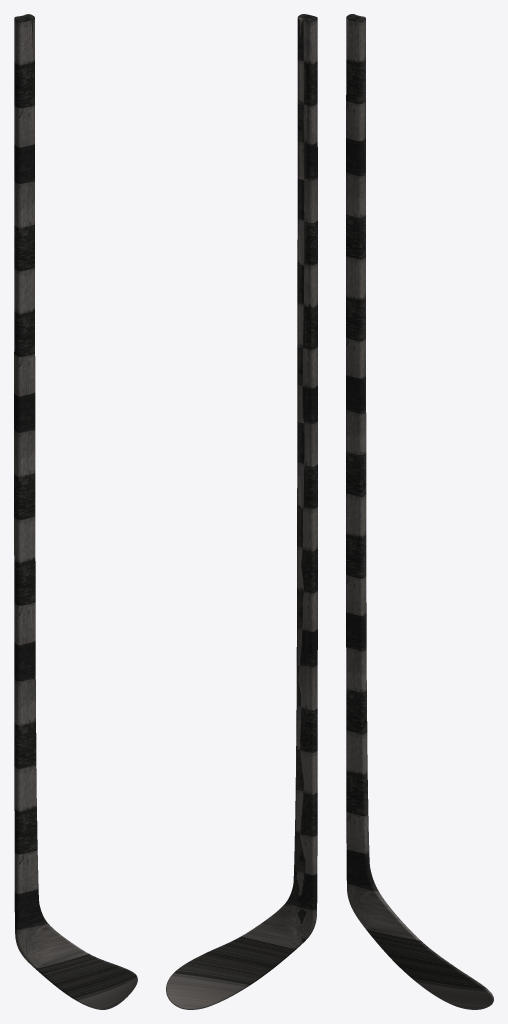
File: P28-1-4-ST-LIE6_0.glb
The picture shows the model from 3 angles, left to right: view 1: azimuth 30°, elevation 25°; view 2: azimuth 150°, elevation 25°; view 3: azimuth 330°, elevation 25°; orthographic projection. The views are drawn at different scales.
Visible parts, largest first — view 1: geometry_0; view 2: geometry_0; view 3: geometry_0.
Boxes of the visible parts, left/top/right/bottom form: geometry_0: left=14, top=14, right=137, bottom=1009; geometry_0: left=166, top=14, right=317, bottom=1009; geometry_0: left=346, top=14, right=493, bottom=1009.
Size of the model in its own units: 230 by 1650 by 65.63.
1 material, 1 textured.
